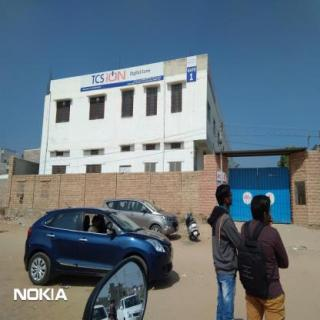Normal_vehicle: (25, 207, 172, 285)
